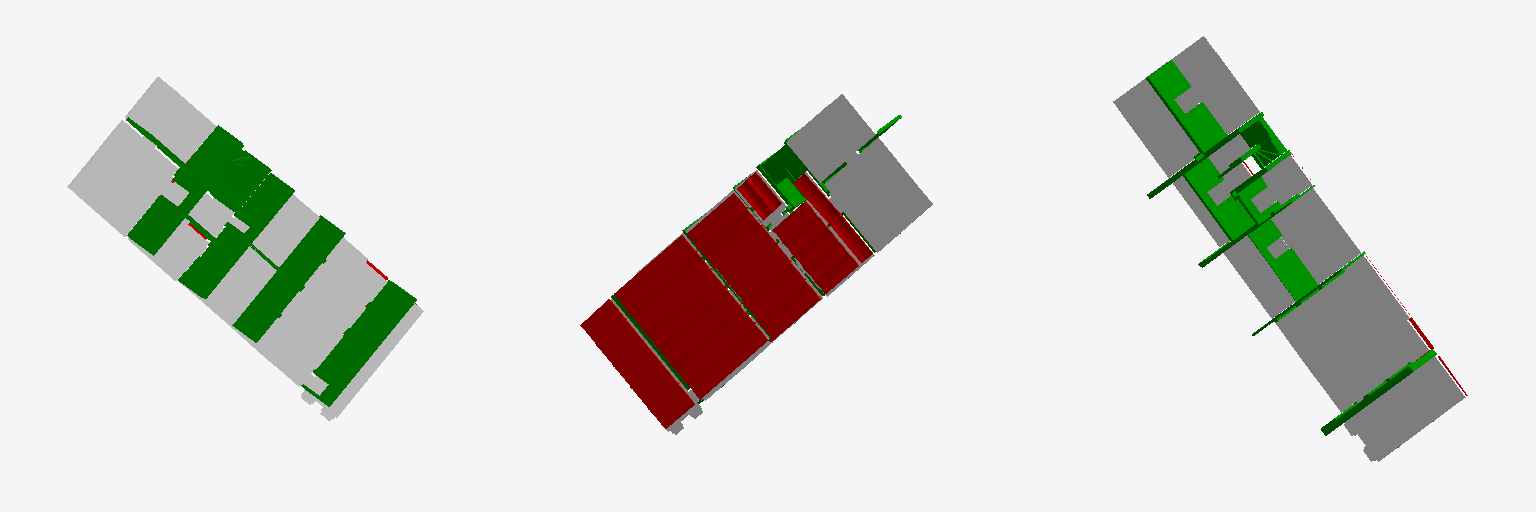
File: interierss.obj
3 views of the same model, side by side, from view 1: azimuth 30°, elevation 25°; view 2: azimuth 150°, elevation 25°; view 3: azimuth 330°, elevation 25° (orthographic).
Parts seen in each view (by area): view 1: 3D_podlahy_1NP, 3D_interier_zdi_1NP; view 2: 3D_podlahy_1NP, 3D_interier_zdi_1NP; view 3: 3D_podlahy_1NP, 3D_interier_zdi_1NP.
Boxes of the visible parts, <box> form: 3D_podlahy_1NP: <box>67,77,423,420</box>; 3D_interier_zdi_1NP: <box>126,117,416,406</box>; 3D_podlahy_1NP: <box>611,92,934,434</box>; 3D_interier_zdi_1NP: <box>611,115,901,403</box>; 3D_podlahy_1NP: <box>1113,34,1466,461</box>; 3D_interier_zdi_1NP: <box>1146,60,1436,435</box>.
Bounding box in the file's own units: 24.81 × 25.75 × 3.37.